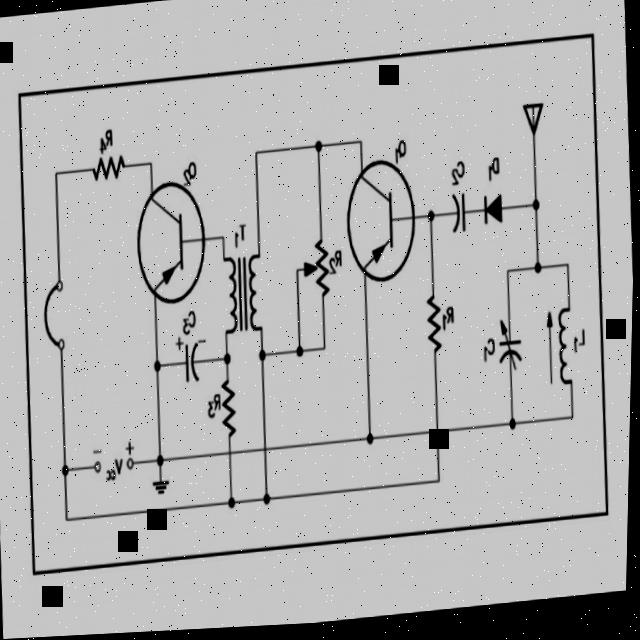capacitor: (494, 318, 531, 392), (441, 184, 475, 248), (179, 330, 208, 392)
diode: (476, 188, 512, 243)
ground: (148, 468, 178, 502)
inductor: (552, 301, 585, 400), (244, 238, 271, 339), (217, 247, 244, 342)
node: (152, 352, 167, 383), (226, 489, 242, 518), (261, 487, 278, 512), (361, 429, 379, 452), (294, 335, 307, 365), (529, 196, 543, 223), (220, 348, 234, 375), (426, 205, 439, 233), (508, 414, 522, 439), (532, 259, 545, 284), (257, 346, 270, 371), (61, 457, 72, 482), (311, 139, 326, 157), (157, 450, 168, 469)
resistor: (292, 226, 339, 318), (414, 280, 457, 367), (212, 372, 246, 444), (88, 142, 132, 191)
source: (87, 426, 145, 494)
switch: (37, 268, 74, 367)
transistor: (124, 166, 219, 316), (337, 147, 429, 297)
